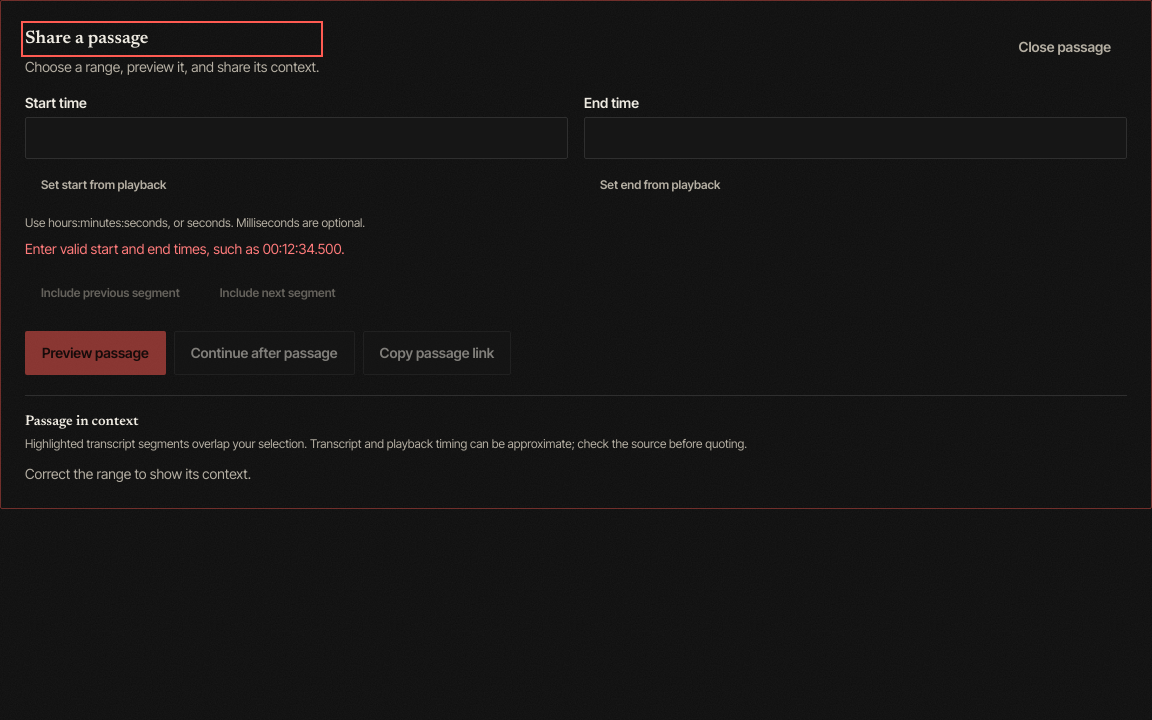
PassagePanel › disables sharing and preview for invalid input rather than silently clamping it
This screenshot has width=1152, height=720.
Expected: the message shows "Enter valid", [25,240,344,257]
Expected: the button "Preview passage" is disabled, [25,331,166,375]
Type "12" into the field labelled "Start time" at (296, 138), box [25,117,568,159]
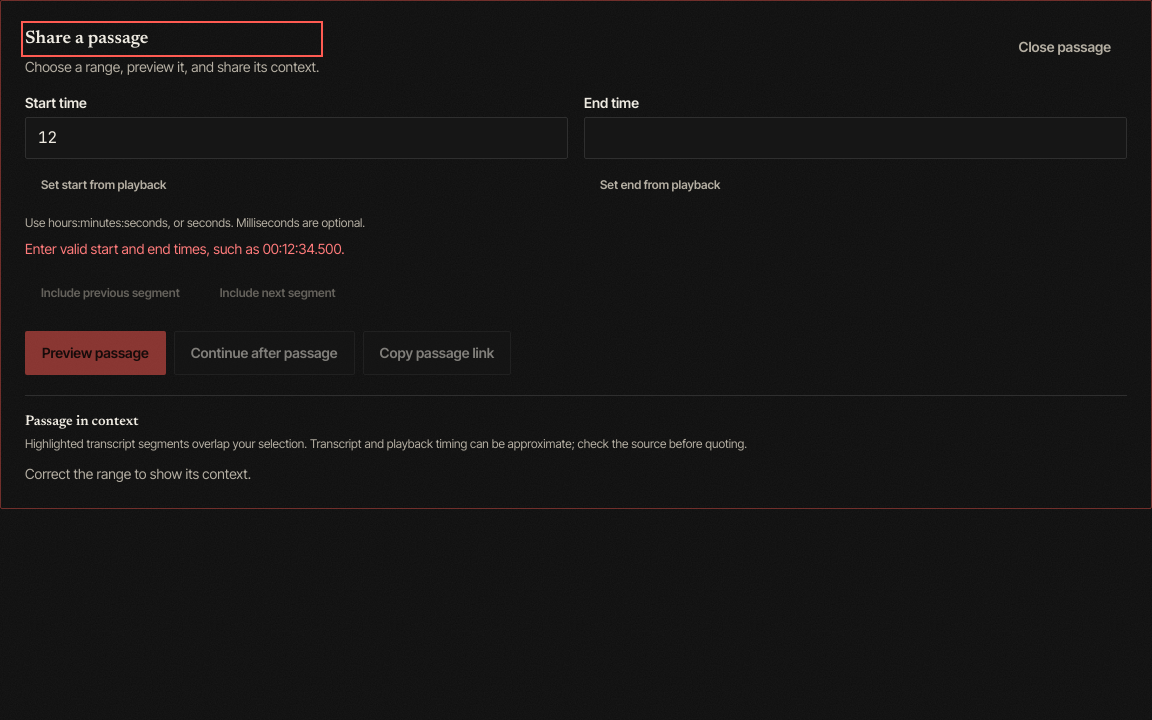
Type "11" into the field labelled "End time" at (856, 138), box [584,117,1127,159]
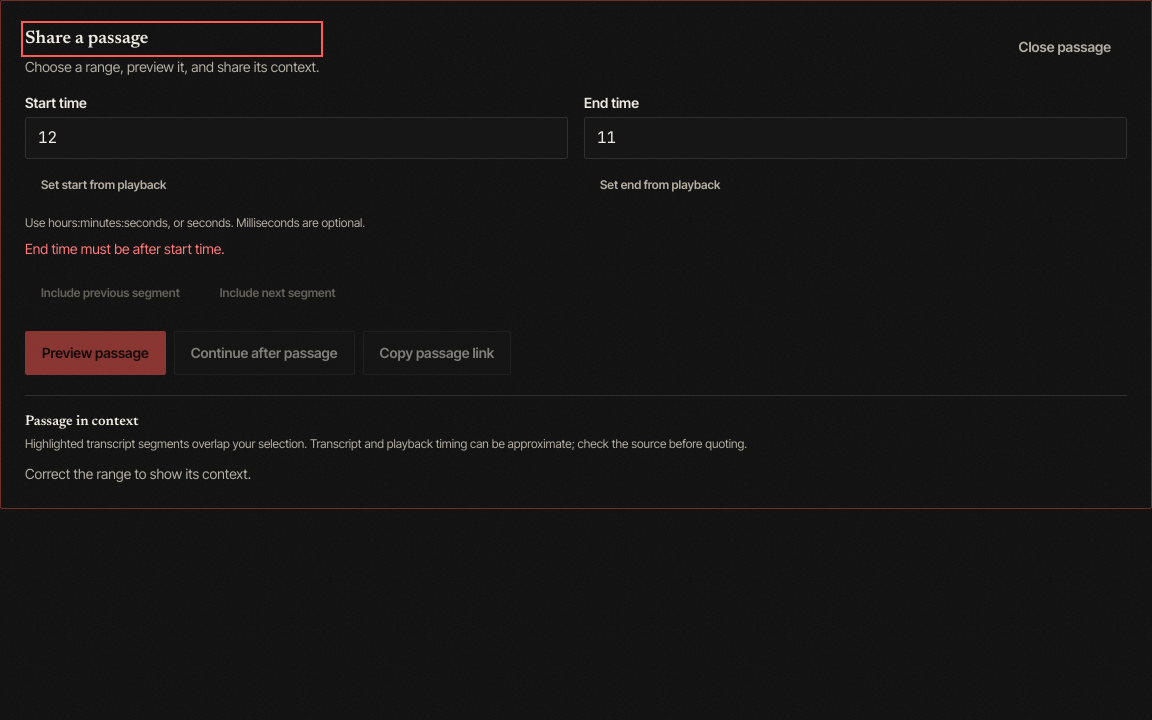
Expected: the message shows "after", [25,240,224,257]
Replace the text in the field labelled "End time" with "31" at (856, 138), box [584,117,1127,159]
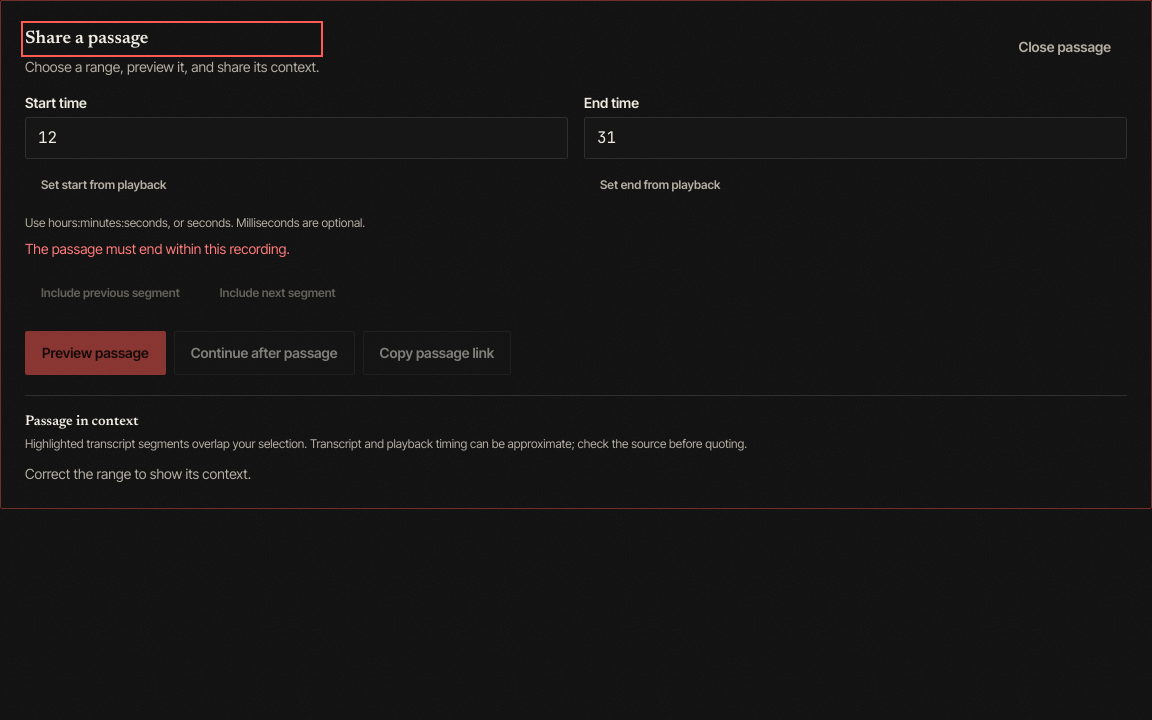
Expected: the button "Copy passage link" is disabled, [363,331,511,375]
Expected: the message shows "within", [25,240,290,257]
